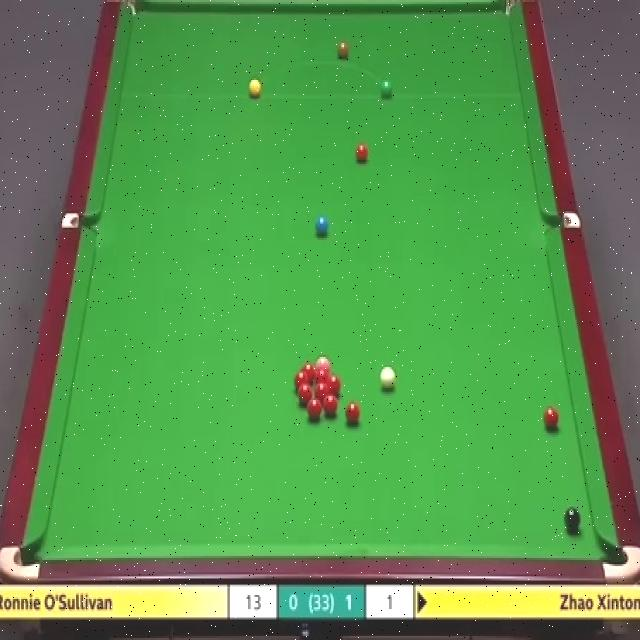black-ball: (563, 507, 581, 532)
blue-ball: (314, 215, 329, 238)
brown-ball: (336, 40, 350, 59)
green-ball: (379, 78, 394, 97)
pink-ball: (313, 351, 328, 365)
red-ball: (542, 406, 558, 432), (344, 402, 361, 426), (353, 142, 370, 164), (297, 382, 312, 405), (323, 393, 338, 415), (308, 392, 322, 415), (329, 374, 342, 396), (302, 364, 316, 381), (294, 372, 308, 386), (317, 365, 328, 381), (315, 383, 329, 395)
white-ball: (379, 367, 397, 389)
yellow-ball: (248, 77, 261, 98)
